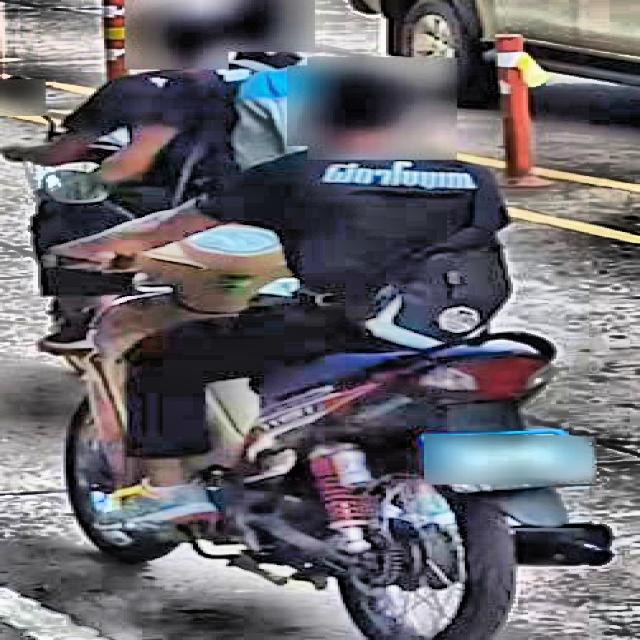motorcycle: (20, 229, 640, 634)
